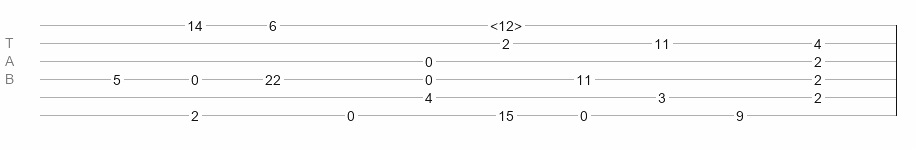0: (191, 72, 199, 82), (347, 108, 355, 118), (425, 72, 433, 82), (425, 54, 433, 64), (580, 108, 588, 118)
11: (576, 72, 592, 82), (654, 36, 670, 46)
14: (187, 18, 203, 28)
15: (498, 108, 514, 118)
2: (191, 108, 199, 118), (502, 36, 510, 46), (814, 90, 822, 100), (814, 72, 822, 82), (814, 54, 822, 64)
22: (265, 72, 281, 82)
3: (658, 90, 666, 100)
4: (425, 90, 433, 100), (814, 36, 822, 46)
5: (113, 72, 121, 82)
6: (269, 18, 277, 28)
9: (736, 108, 744, 118)
harmonic: (490, 18, 522, 28)
